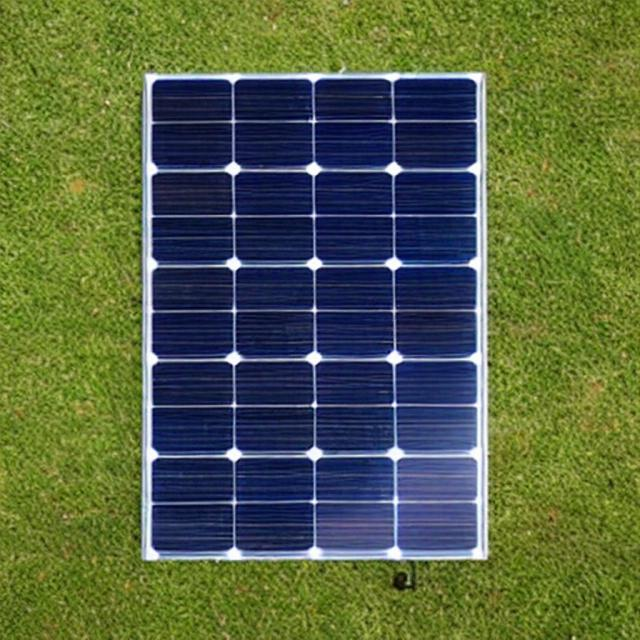faulty: (147, 77, 484, 556)
